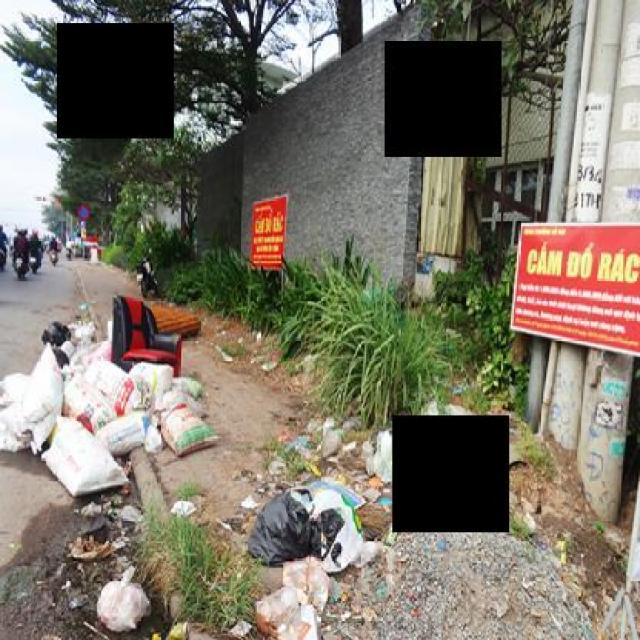plastic bag: (0, 316, 222, 504), (255, 474, 377, 574), (85, 564, 157, 638), (368, 422, 410, 486)
